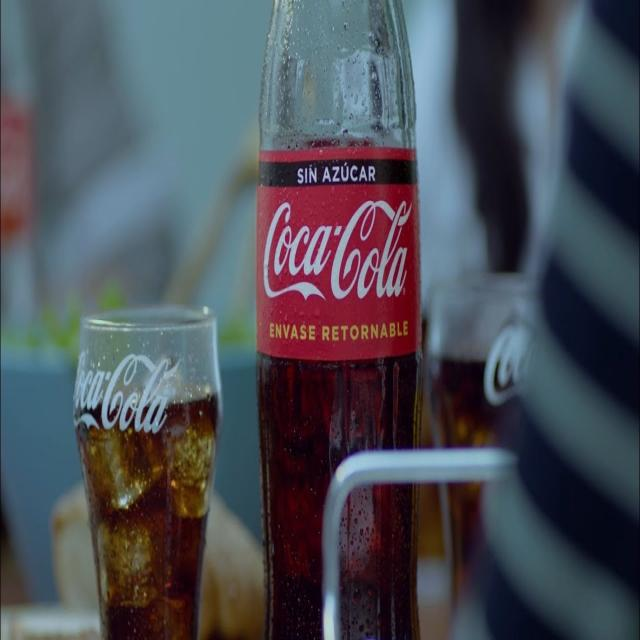coca cola: (264, 199, 413, 305), (75, 350, 182, 433)
